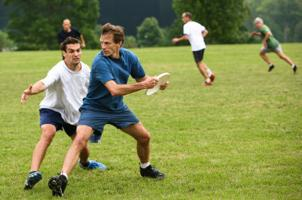person: (48, 24, 170, 196)
